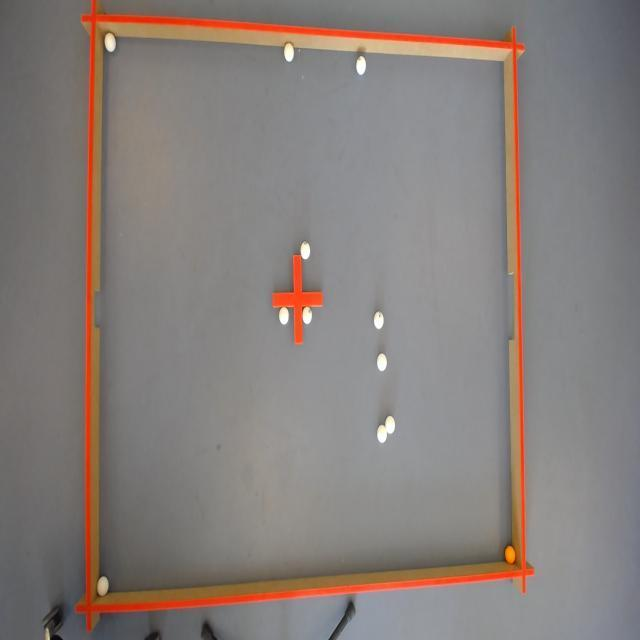orange: (504, 542, 516, 566)
white: (382, 415, 394, 438), (282, 42, 295, 63), (95, 576, 108, 596), (376, 422, 387, 444), (372, 309, 384, 329), (376, 353, 388, 372), (300, 242, 314, 258), (356, 55, 367, 75), (102, 34, 114, 51), (278, 306, 288, 326), (302, 306, 312, 324)
